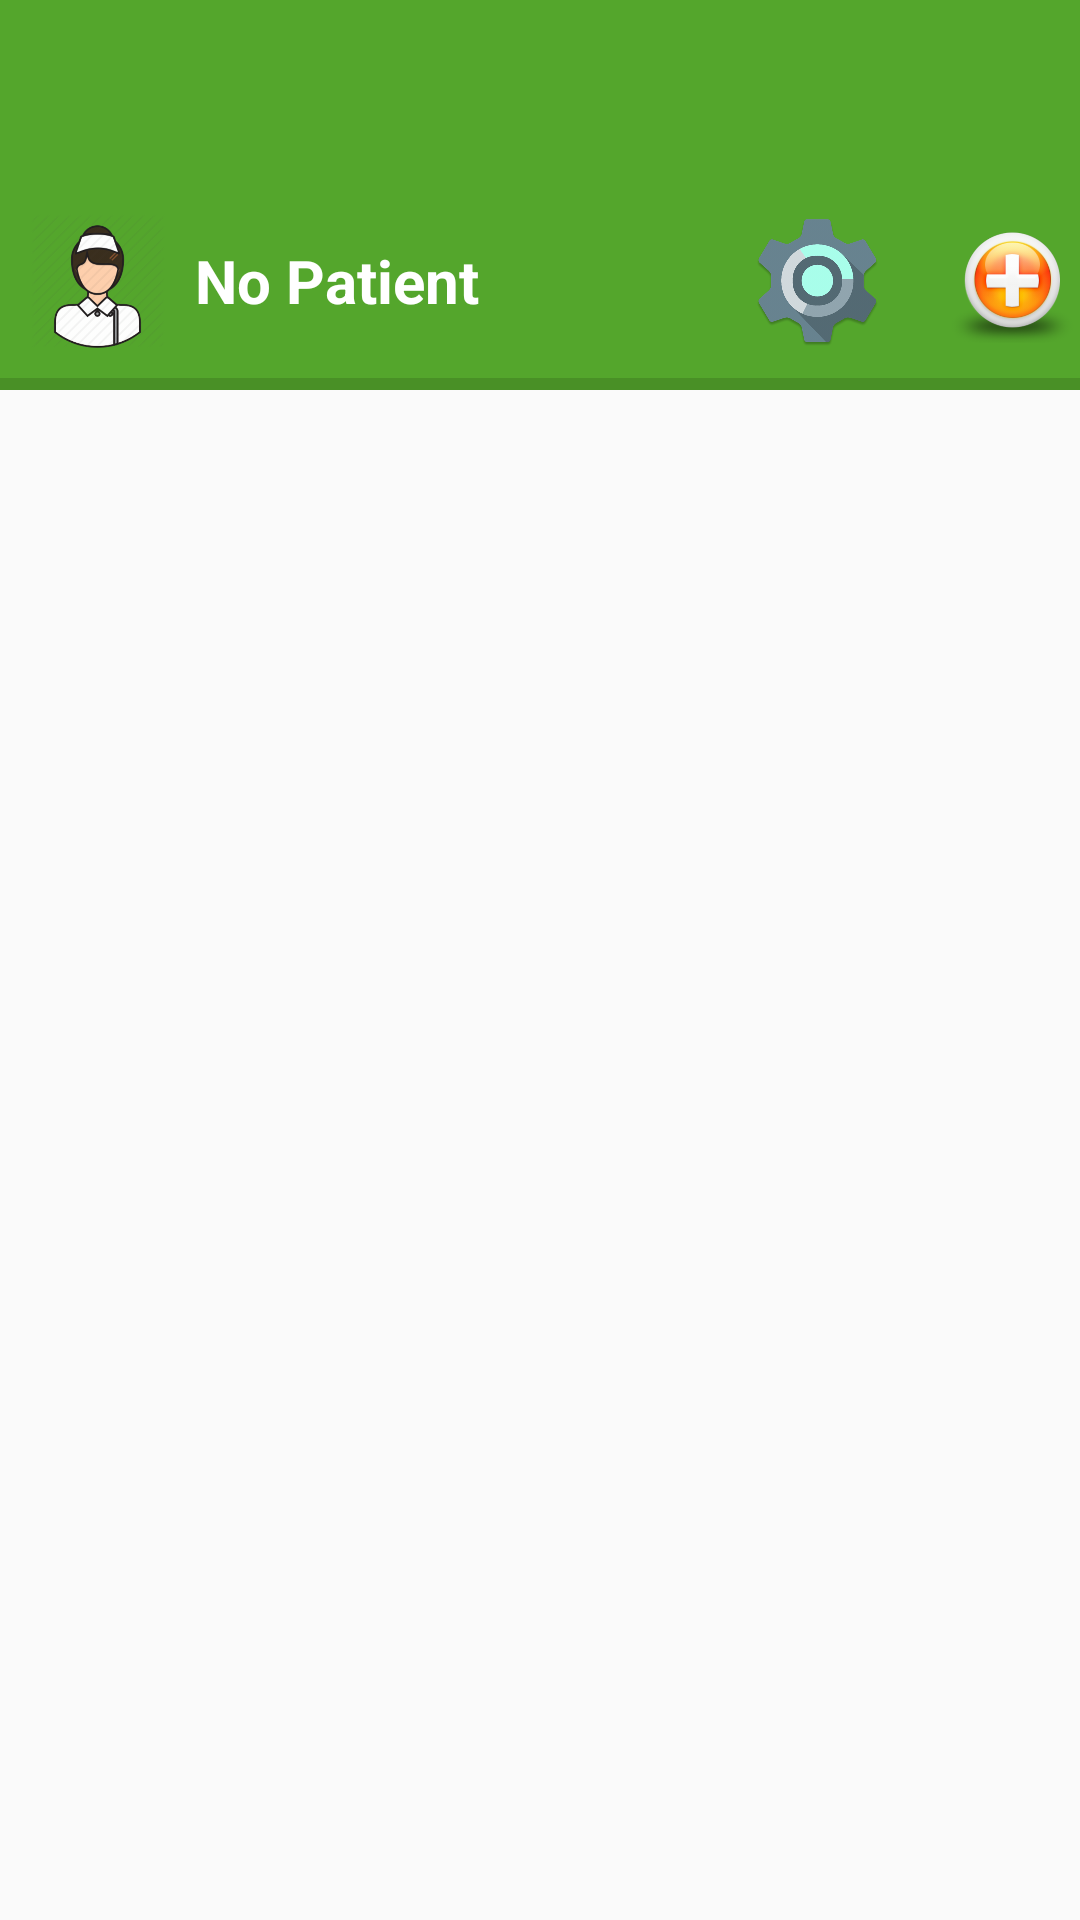

Named icons in this screenshot (1080w x 1920h) and their bounding boxes, (x1,y1,x2,y2):
add: (965,232,1060,337)
nurse: (54,225,141,348)
settings: (758,219,876,344)
